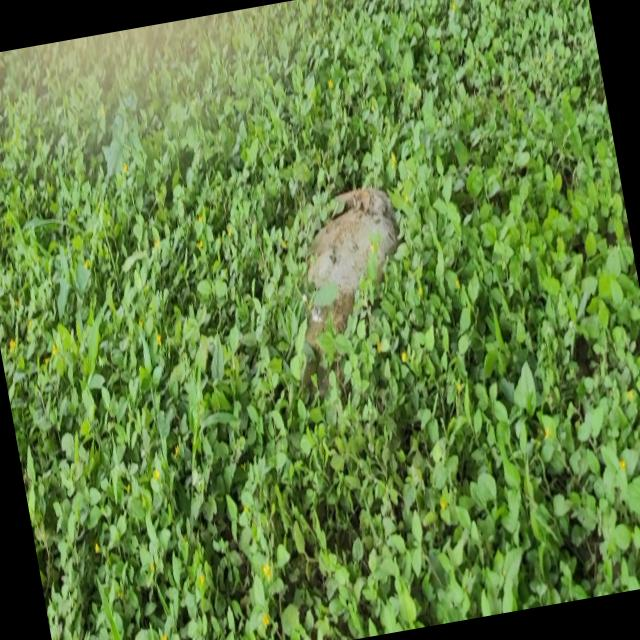stone: (305, 187, 398, 357)
